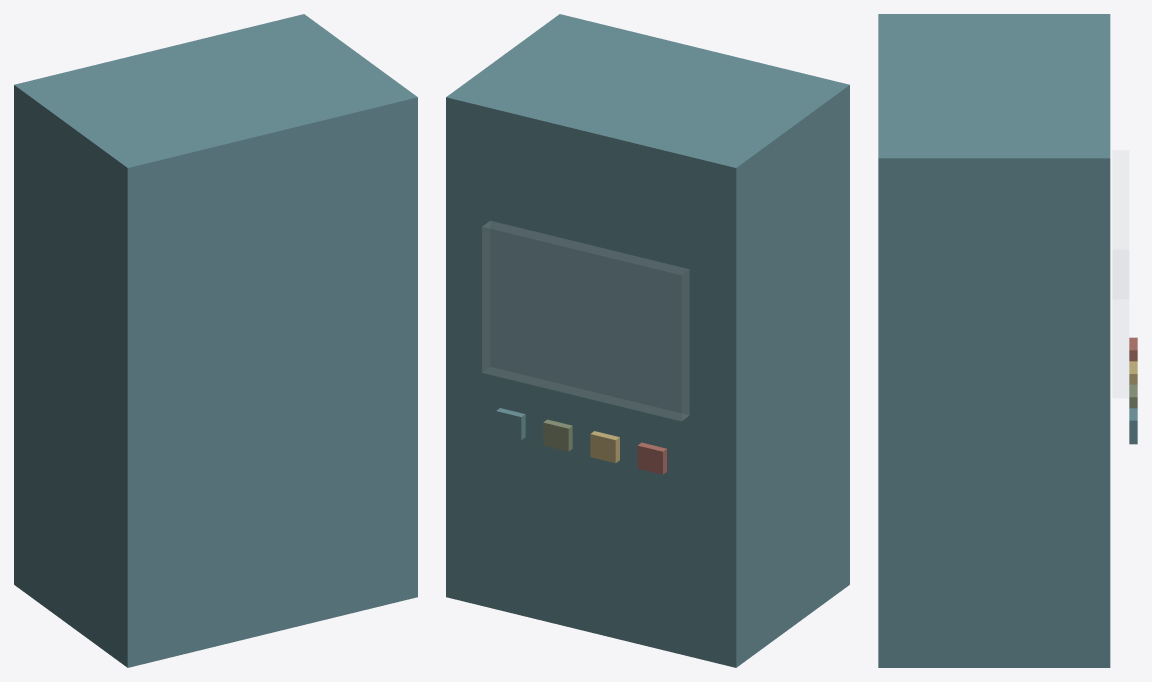
Rendered from iz2_mission_rescue_basket.glb.
The picture shows the model from 3 angles, left to right: view 1: azimuth 30°, elevation 25°; view 2: azimuth 150°, elevation 25°; view 3: azimuth 270°, elevation 25°; orthographic projection.
Parts seen in each view (by area): view 1: body; view 2: body, screen; view 3: body, screen.
Part boxes in pixels (<box>): body: <box>14,14,417,667</box>; body: <box>446,14,849,667</box>; screen: <box>482,221,689,420</box>; body: <box>878,14,1137,667</box>; screen: <box>1112,150,1128,397</box>.
Size of the model in its own units: 0.7957 by 1.31 by 0.6042.
